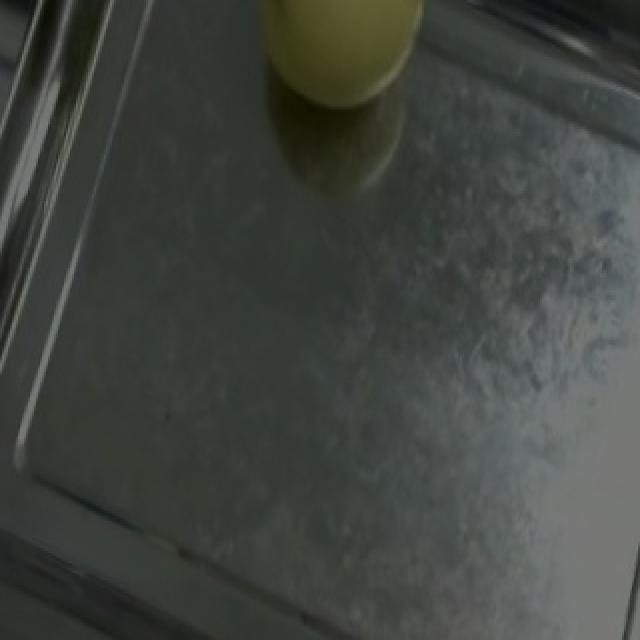Fruit: (210, 0, 464, 146)
